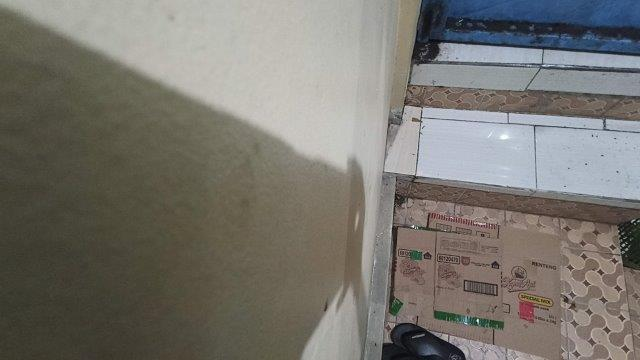kardus: (395, 213, 560, 358)
